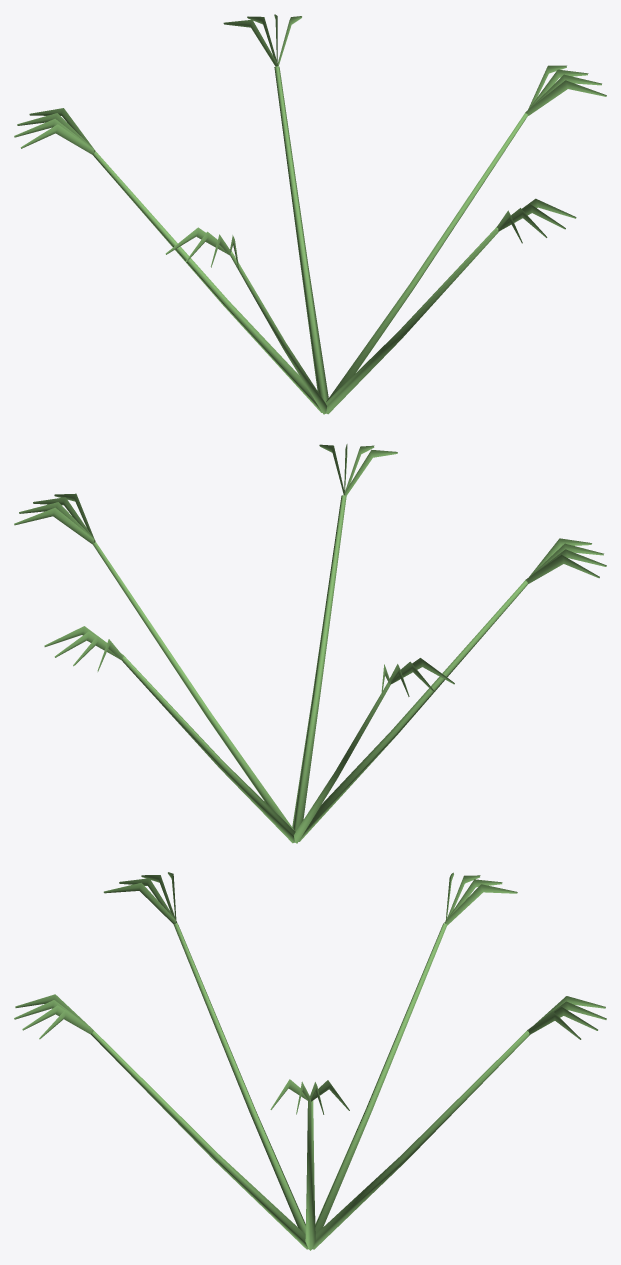
Rendered from grass_goosegrass.glb.
The picture shows the model from 3 angles, top to bottom: view 1: azimuth 30°, elevation 25°; view 2: azimuth 150°, elevation 25°; view 3: azimuth 270°, elevation 25°; orthographic projection.
Parts seen in each view (by area): view 1: Flora_Goosegrass; view 2: Flora_Goosegrass; view 3: Flora_Goosegrass.
Boxes of the visible parts, box(x1,y1,x2,y2) form: Flora_Goosegrass: box(14, 14, 606, 414); Flora_Goosegrass: box(14, 444, 606, 843); Flora_Goosegrass: box(14, 872, 606, 1250).
Size of the model in its own units: 0.8719 by 0.4726 by 0.9044.
